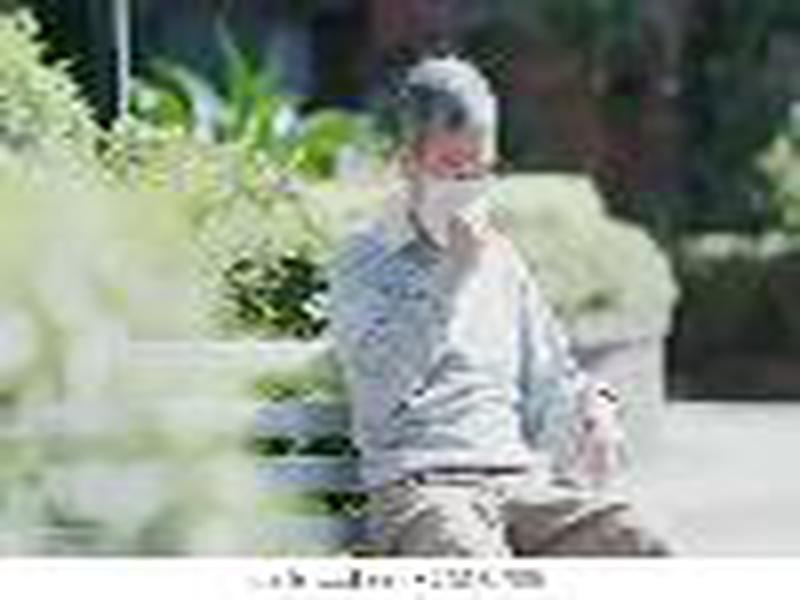with_mask: (393, 60, 501, 256)
